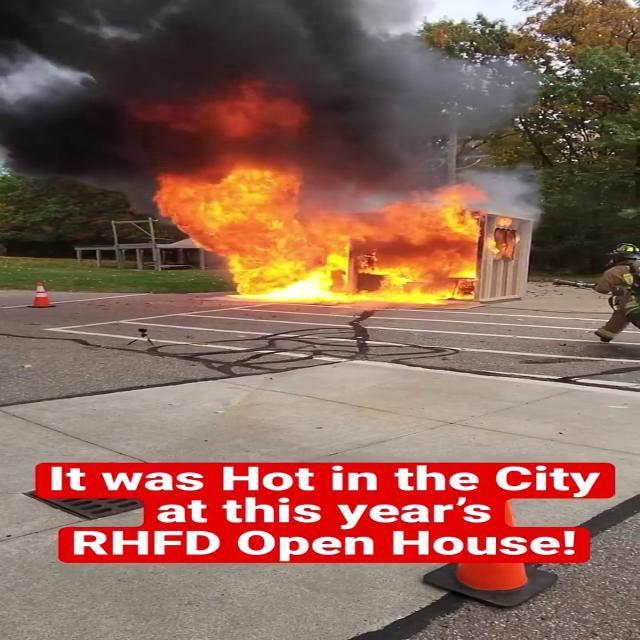Fire: (128, 157, 503, 299)
Smoke: (0, 0, 517, 180)
